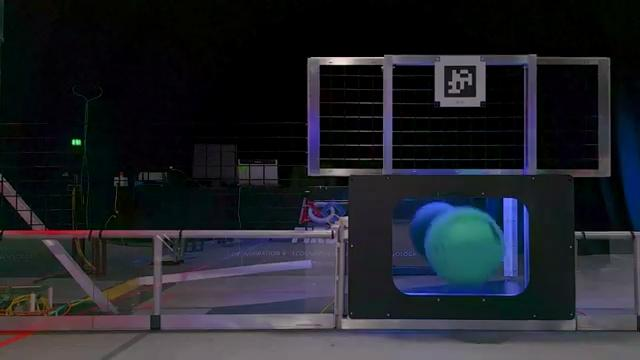ALGAE: (422, 205, 504, 286)
